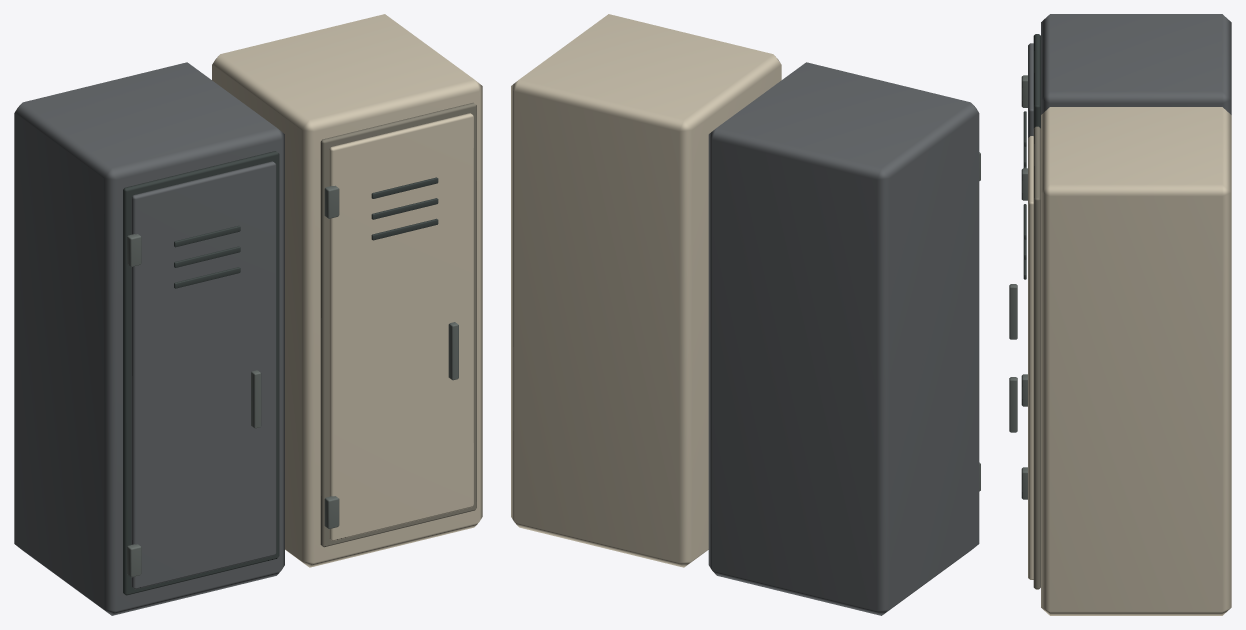
File: LockerPair02.fbx
The picture shows the model from 3 angles, left to right: view 1: azimuth 30°, elevation 25°; view 2: azimuth 150°, elevation 25°; view 3: azimuth 270°, elevation 25°; orthographic projection. The views are drawn at different scales.
Visible parts, largest first — view 1: LockerPair02.001; view 2: LockerPair02.001; view 3: LockerPair02.001.
Part boxes in pixels (box(x1,y1,x2,y2)): LockerPair02.001: box(14, 14, 482, 615); LockerPair02.001: box(511, 14, 980, 615); LockerPair02.001: box(1009, 14, 1231, 615).
Size of the model in its own units: 115 by 130 by 60.6.
